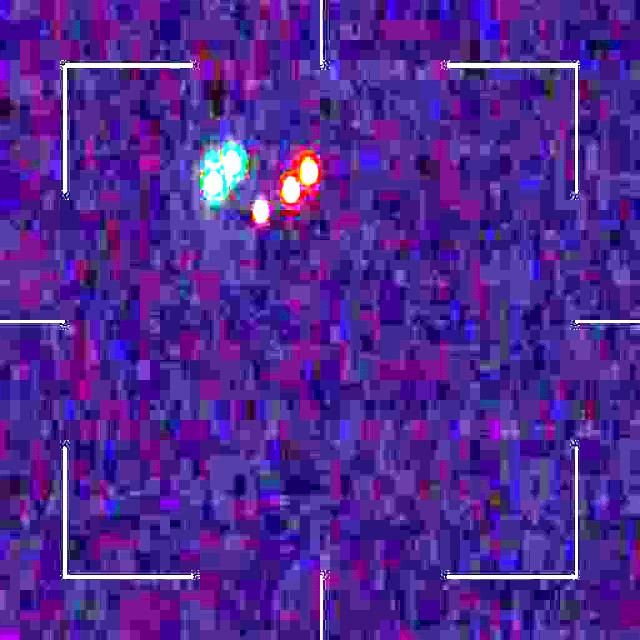bird: (205, 150, 319, 221)
